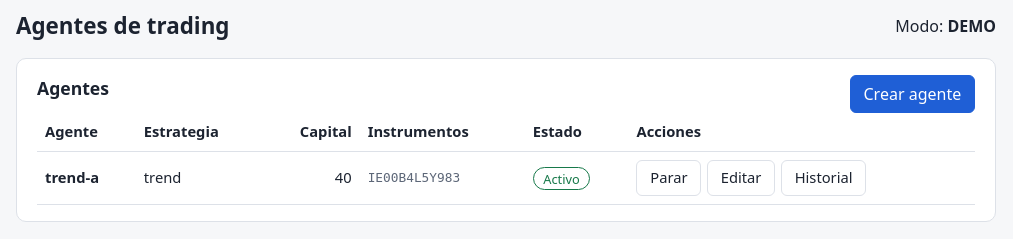
Scenario: App › opens the history of an agent
Step 1. Click the button with aria-label "Historial de trend-a" → (824, 178), box [781,160,866,196]
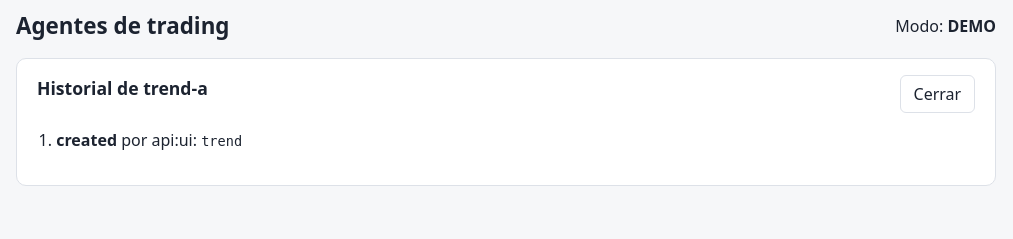
Check: the heading "Historial de trend-a" is shown, box [37,76,208,101]
Check: the text "created" is shown, box [56,130,117,152]
